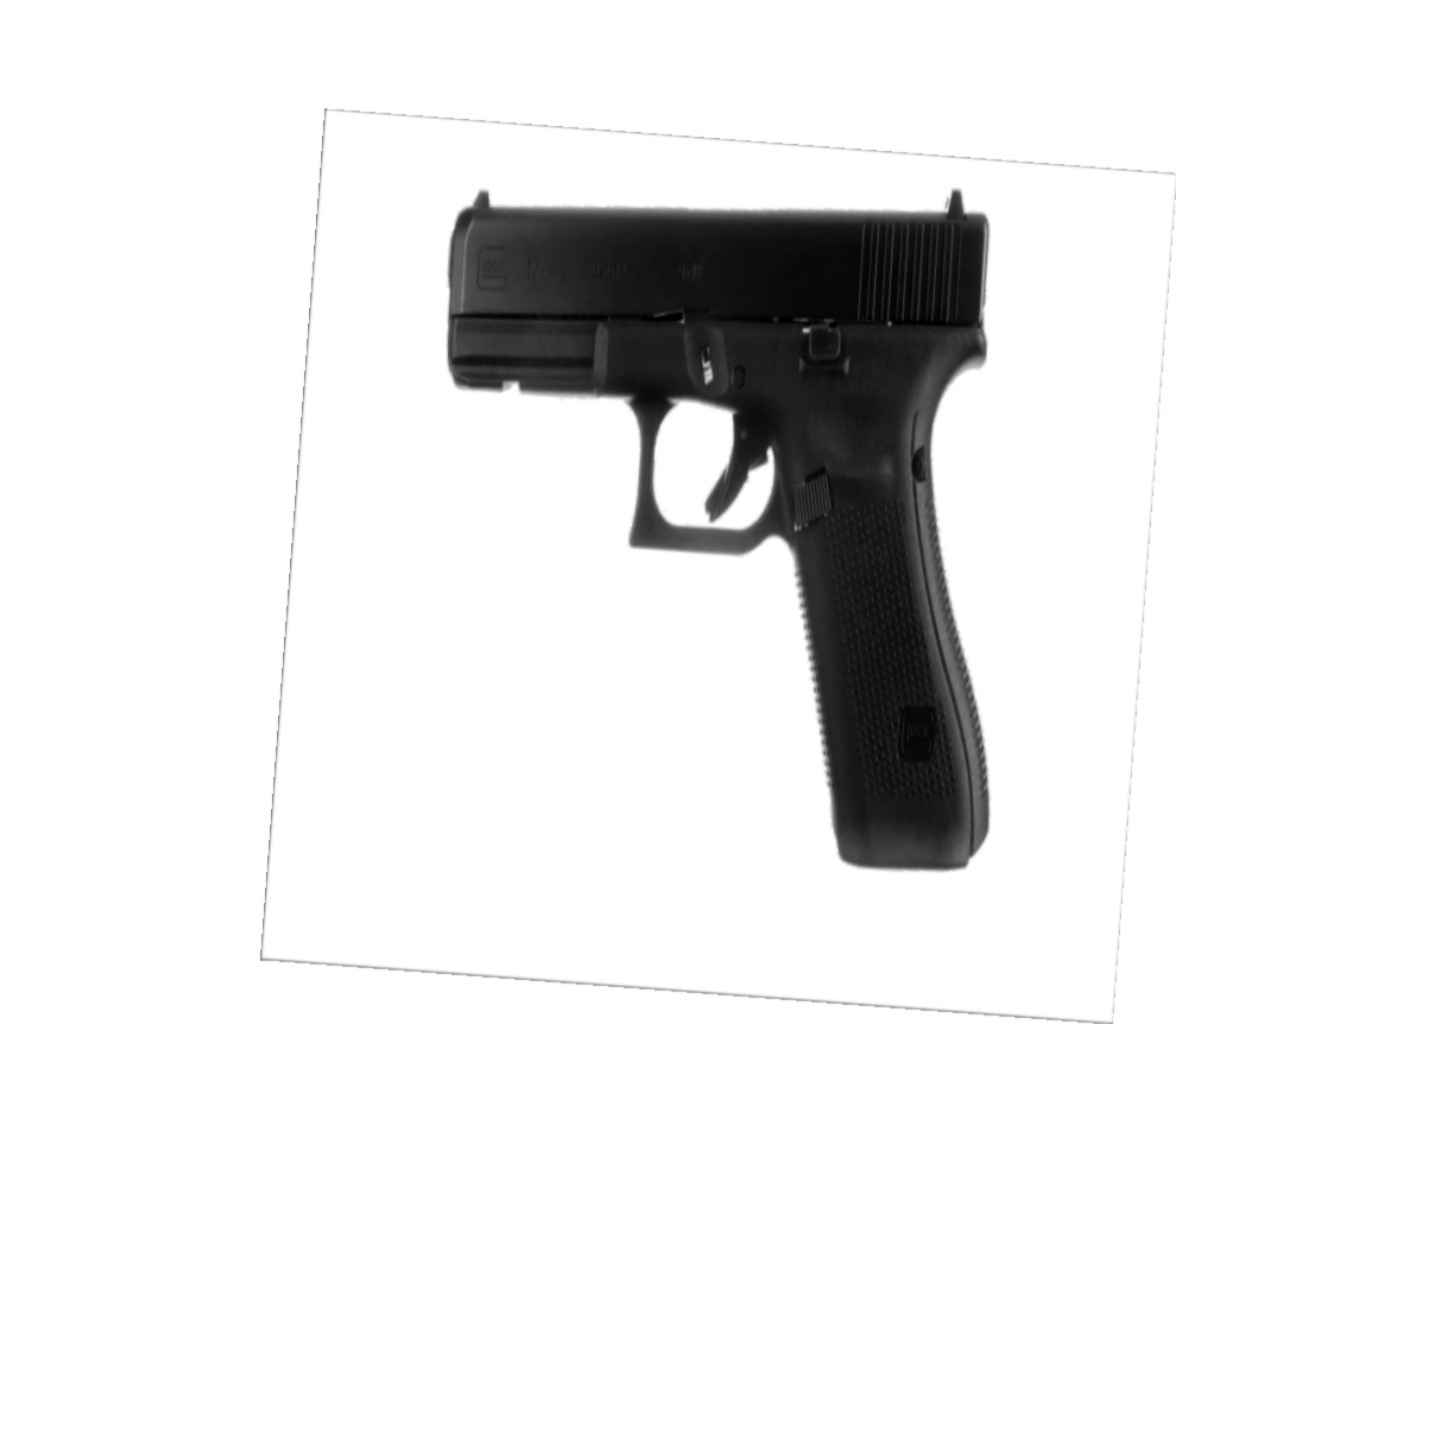gun: (432, 190, 1007, 884)
